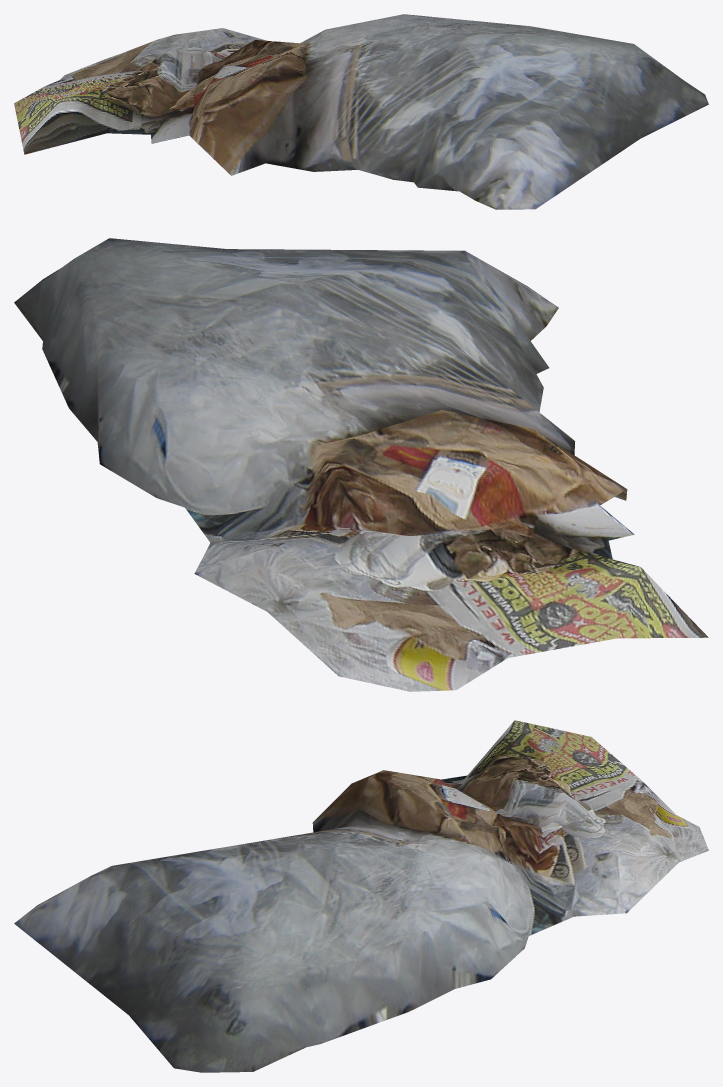
File: Garbage1A.fbx
The picture shows the model from 3 angles, top to bottom: view 1: azimuth 30°, elevation 25°; view 2: azimuth 150°, elevation 25°; view 3: azimuth 270°, elevation 25°; orthographic projection. The views are drawn at different scales.
Visible parts, largest first — view 1: polySurface855; view 2: polySurface855; view 3: polySurface855.
Boxes of the visible parts, x1=… form: polySurface855: x1=14, y1=14, x2=708, y2=209; polySurface855: x1=14, y1=238, x2=708, y2=691; polySurface855: x1=14, y1=720, x2=708, y2=1072.
Size of the model in its own units: 1.64 by 0.269 by 1.41.
